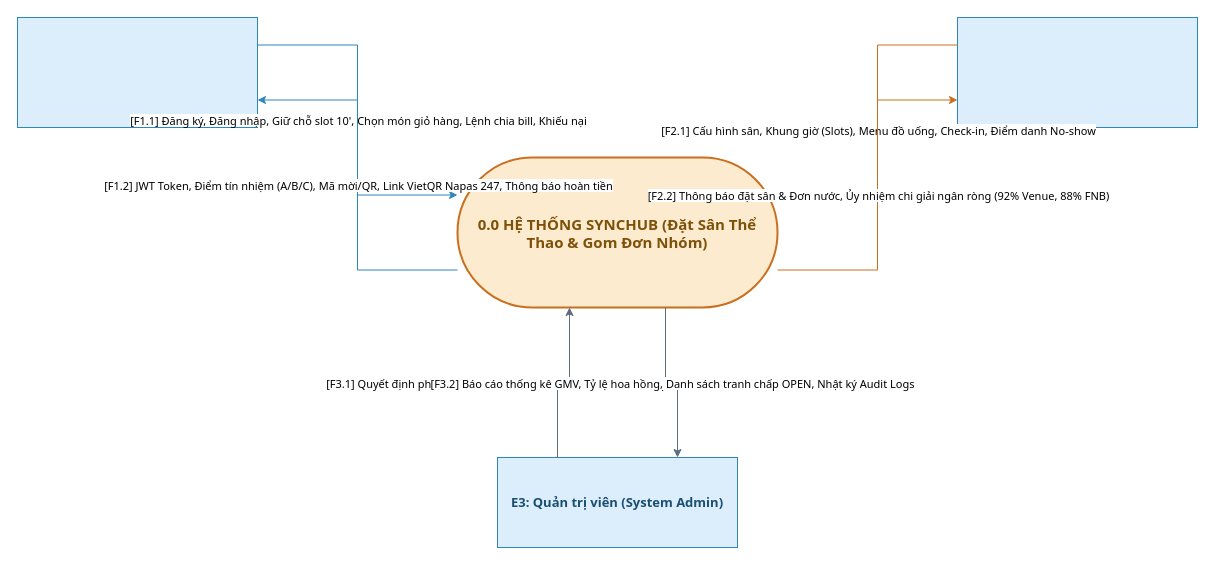
This 1215x565 diagram has some shape labels left out. Each missing label, with the centre of its shape:
E1: Khách hàng (Host / Member): the point at 137,72
E2: Đối tác cung cấp (Sân Venue / Quán FNB): the point at 1077,72
